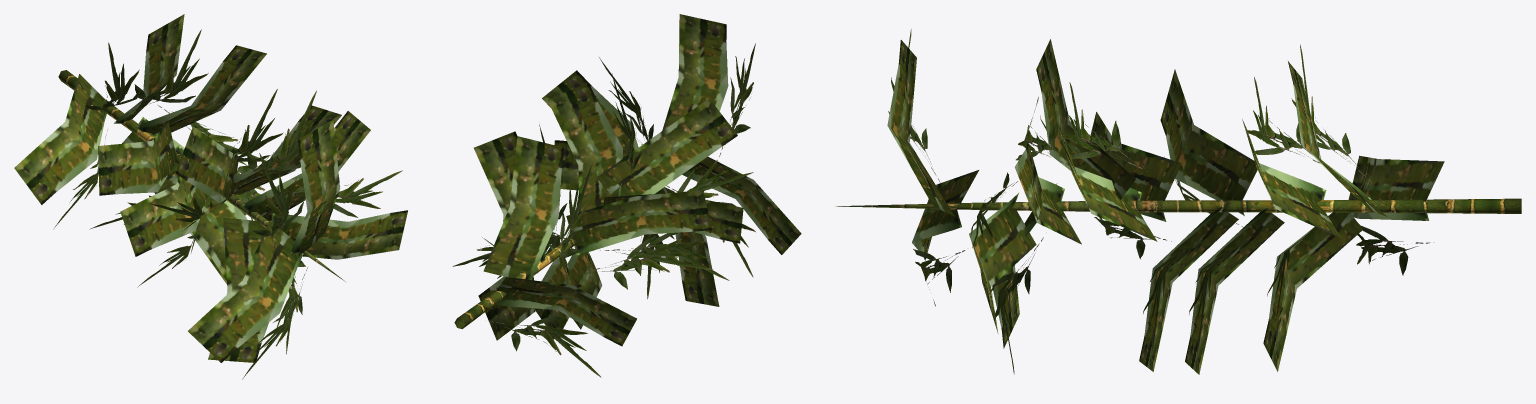
File: bamboo_single_1.obj
The picture shows the model from 3 angles, left to right: view 1: azimuth 30°, elevation 25°; view 2: azimuth 150°, elevation 25°; view 3: azimuth 270°, elevation 25°; orthographic projection. The views are drawn at different scales.
Visible parts, largest first — view 1: bamboo_01; view 2: bamboo_01; view 3: bamboo_01.
Part boxes in pixels (<box>): bamboo_01: <box>14,14,407,379</box>; bamboo_01: <box>452,14,801,377</box>; bamboo_01: <box>836,29,1521,374</box>.
Size of the model in its own units: 21.98 by 22.16 by 41.68.
